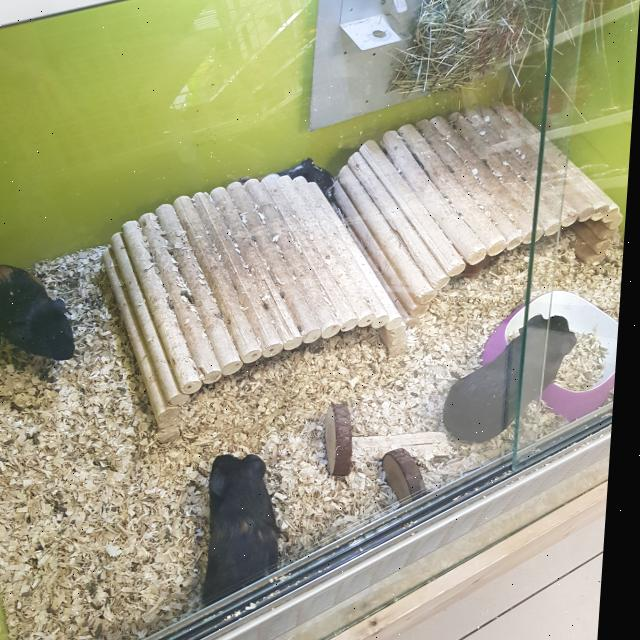guinea pig: (445, 312, 586, 446), (207, 451, 298, 608), (0, 261, 89, 364)
